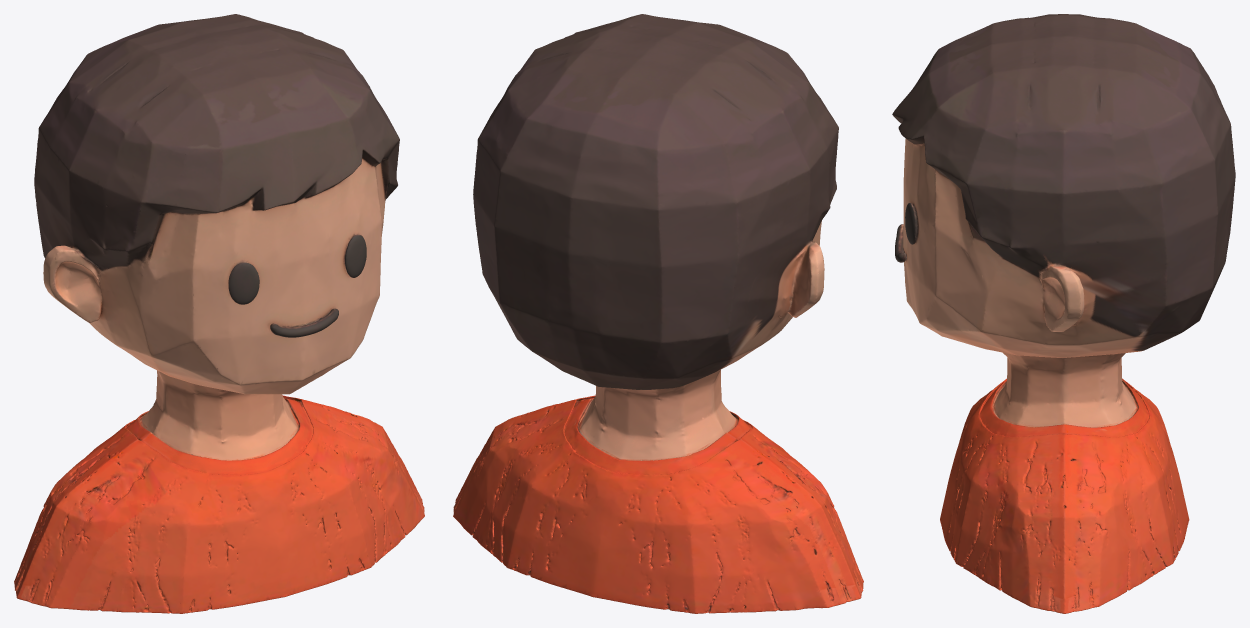
File: Meshy_AI_Character_Portrait_0109155049_texture.fbx
The picture shows the model from 3 angles, left to right: view 1: azimuth 30°, elevation 25°; view 2: azimuth 150°, elevation 25°; view 3: azimuth 270°, elevation 25°; orthographic projection. The views are drawn at different scales.
Parts seen in each view (by area): view 1: Mesh_0; view 2: Mesh_0; view 3: Mesh_0.
Boxes of the visible parts, bbox=[...] form: Mesh_0: bbox=[14, 14, 424, 613]; Mesh_0: bbox=[453, 14, 863, 613]; Mesh_0: bbox=[892, 14, 1235, 613].
Bounding box in the file's own units: 159 × 190 × 122.
Materials: 1 (1 with a texture image).
